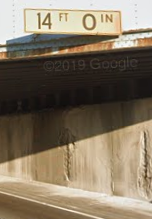0: (80, 10, 98, 31)
1: (33, 9, 42, 31)
4: (41, 10, 54, 32)
overheadsign: (22, 6, 121, 35)
